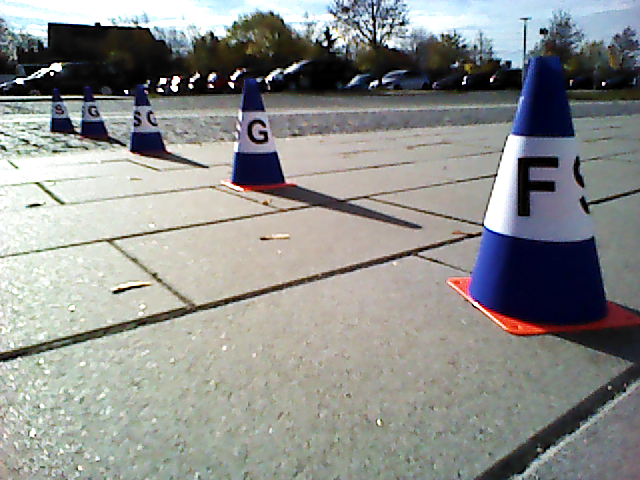bluecone: (472, 57, 610, 318), (231, 79, 284, 184), (131, 85, 165, 152), (79, 87, 108, 136), (47, 88, 75, 133)
